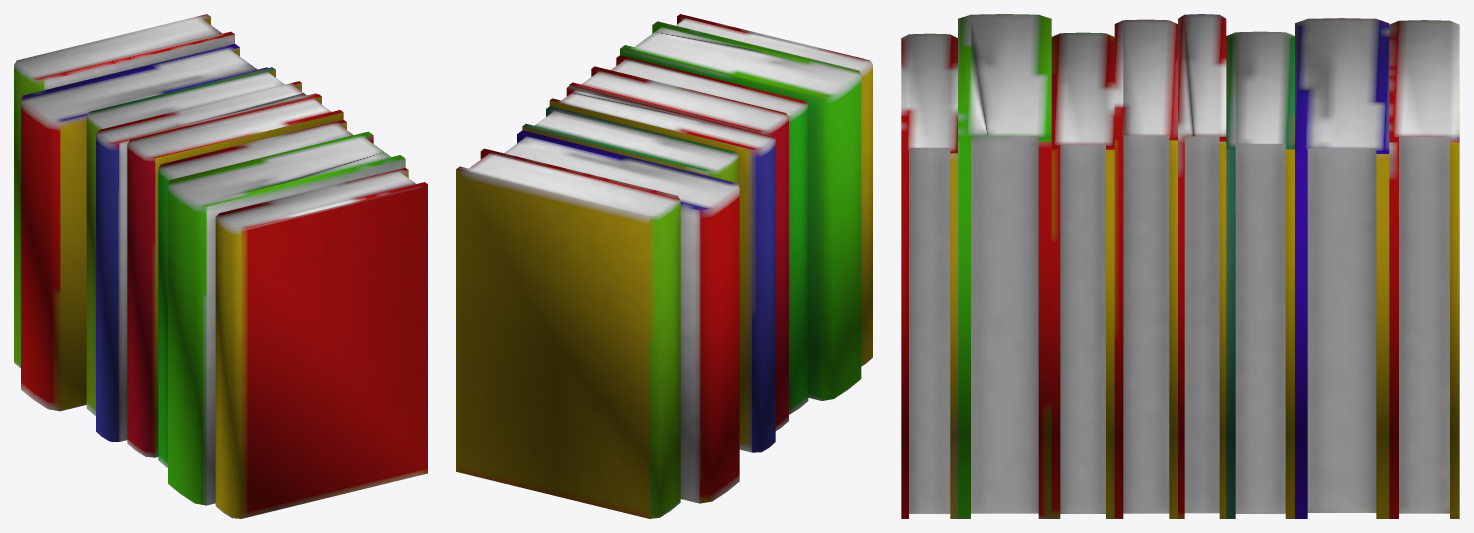
The model's file is Prop_118_Closedbook_009.fbx.
3 renders of one model, left to right at view 1: azimuth 30°, elevation 25°; view 2: azimuth 150°, elevation 25°; view 3: azimuth 270°, elevation 25°, orthographic. The views are drawn at different scales.
Parts seen in each view (by area): view 1: Prop_118_Closedbook_009; view 2: Prop_118_Closedbook_009; view 3: Prop_118_Closedbook_009.
Part boxes in pixels (x1,y1,x2,y2): Prop_118_Closedbook_009: (14,14,427,518); Prop_118_Closedbook_009: (456,14,872,518); Prop_118_Closedbook_009: (901,14,1459,518).
Size of the model in its own units: 0.2363 by 0.3066 by 0.4098.
Materials: 1 (1 with a texture image).
